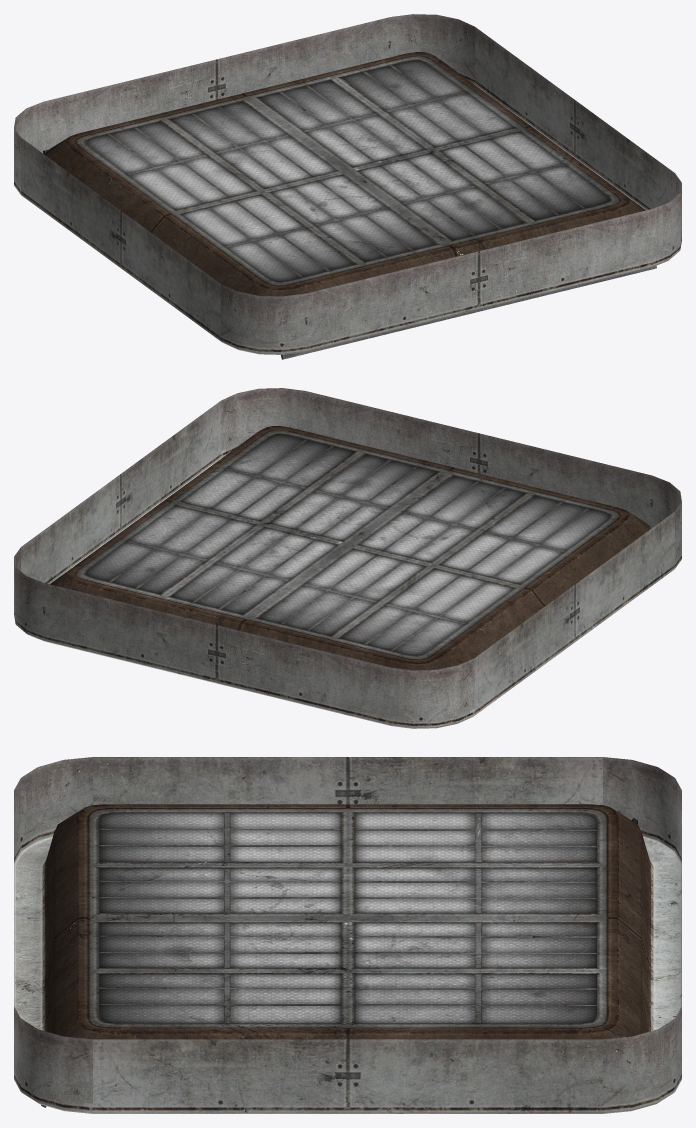
The model's file is ceiling_shutter_large_white.dae.
The picture shows the model from 3 angles, top to bottom: view 1: azimuth 30°, elevation 25°; view 2: azimuth 150°, elevation 25°; view 3: azimuth 270°, elevation 25°; orthographic projection. The views are drawn at different scales.
Visible parts, largest first — view 1: ceiling_shutter_large; view 2: ceiling_shutter_large; view 3: ceiling_shutter_large.
Part boxes in pixels (x1,y1,x2,y2): ceiling_shutter_large: (14,14,681,359); ceiling_shutter_large: (14,388,681,728); ceiling_shutter_large: (14,757,681,1113).
Bounding box in the file's own units: 2 × 0.3056 × 2.
